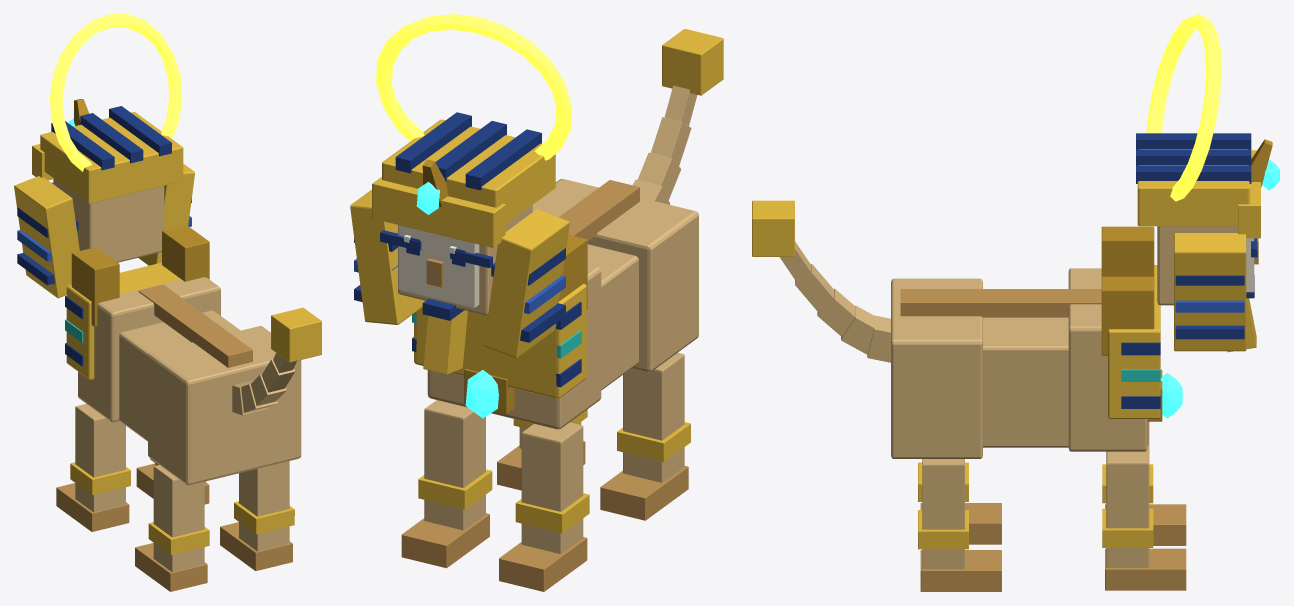
Rendered from royal-sphinx.glb.
3 views of the same model, side by side, from view 1: azimuth 30°, elevation 25°; view 2: azimuth 150°, elevation 25°; view 3: azimuth 270°, elevation 25° (orthographic). The views are drawn at different scales.
Visible parts, largest first — view 1: body, head, leg.FR, leg.BR, leg.BL, tail, leg.FL; view 2: head, body, leg.FR, leg.FL, leg.BR, tail, leg.BL; view 3: body, head, leg.FL, tail, leg.BL, leg.FR, leg.BR.
Part boxes in pixels (bbox=[...]): body: bbox=[65, 262, 301, 555]; head: bbox=[14, 14, 209, 326]; leg.FR: bbox=[56, 403, 129, 531]; leg.BR: bbox=[135, 465, 207, 591]; leg.BL: bbox=[220, 461, 292, 570]; tail: bbox=[232, 307, 321, 415]; leg.FL: bbox=[136, 463, 209, 504]; head: bbox=[350, 14, 587, 374]; body: bbox=[412, 179, 698, 533]; leg.FR: bbox=[499, 422, 587, 591]; leg.FL: bbox=[401, 400, 489, 568]; leg.BR: bbox=[600, 352, 688, 520]; tail: bbox=[633, 29, 723, 204]; leg.BL: bbox=[497, 422, 585, 490]; body: bbox=[891, 265, 1182, 549]; head: bbox=[1101, 14, 1279, 355]; leg.FL: bbox=[1105, 445, 1186, 590]; tail: bbox=[752, 200, 890, 362]; leg.BL: bbox=[920, 459, 1001, 591]; leg.FR: bbox=[1105, 421, 1186, 545]; leg.BR: bbox=[920, 503, 1001, 544].
Bounding box in the file's own units: 0.335 × 1 × 0.8988.
